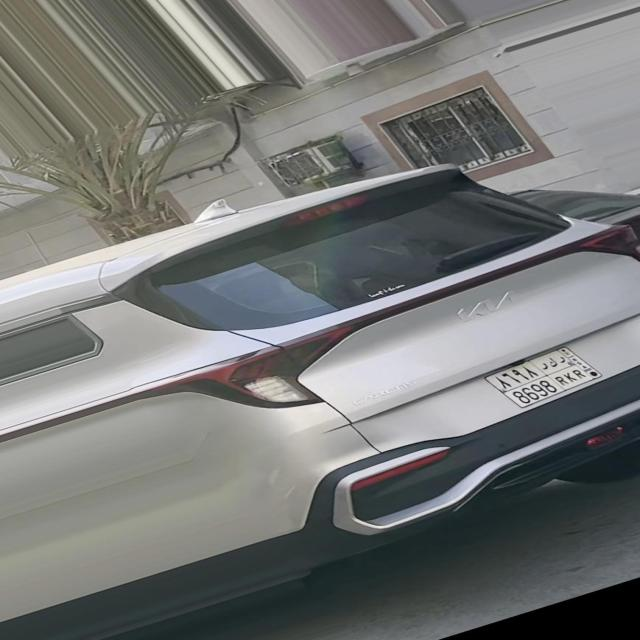Car-plate: (469, 327, 639, 423)
